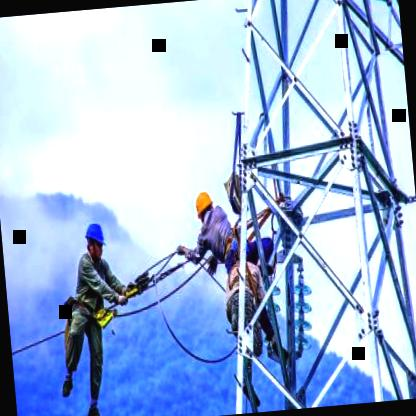helmet: (82, 216, 109, 264), (192, 189, 218, 229), (230, 234, 252, 262)
